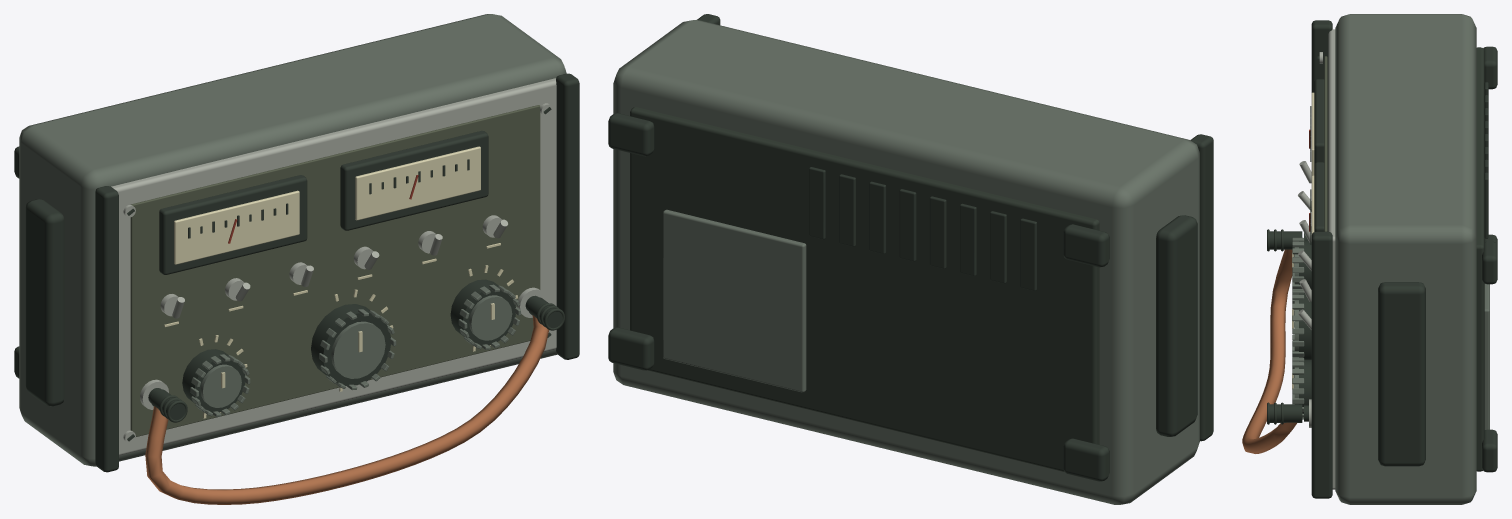
The model's file is interface.glb.
The picture shows the model from 3 angles, left to right: view 1: azimuth 30°, elevation 25°; view 2: azimuth 150°, elevation 25°; view 3: azimuth 270°, elevation 25°; orthographic projection. The views are drawn at different scales.
Visible parts, largest first — view 1: interface; view 2: interface; view 3: interface.
Boxes of the visible parts, left/top/right/bottom form: interface: left=14, top=14, right=579, bottom=504; interface: left=608, top=14, right=1213, bottom=504; interface: left=1242, top=14, right=1497, bottom=504.
Size of the model in its own units: 2.12 by 1.31 by 0.9606.
